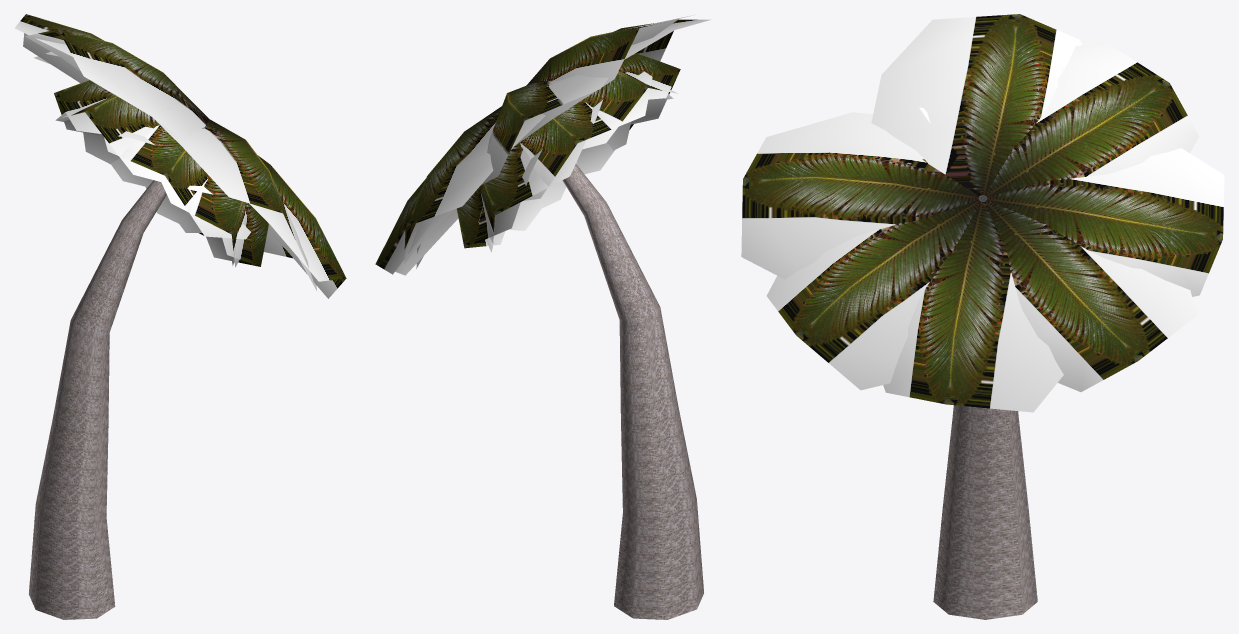
File: palmtree_2.fbx
3 renders of one model, left to right at view 1: azimuth 30°, elevation 25°; view 2: azimuth 150°, elevation 25°; view 3: azimuth 270°, elevation 25°, orthographic. The views are drawn at different scales.
Visible parts, largest first — view 1: palmtree4; view 2: palmtree4; view 3: palmtree4.
Boxes of the visible parts, x1,y1,x2,y2 form: palmtree4: (14, 14, 346, 619); palmtree4: (375, 14, 710, 619); palmtree4: (741, 14, 1224, 619).
Size of the model in its own units: 2.56 by 5.26 by 3.91.
